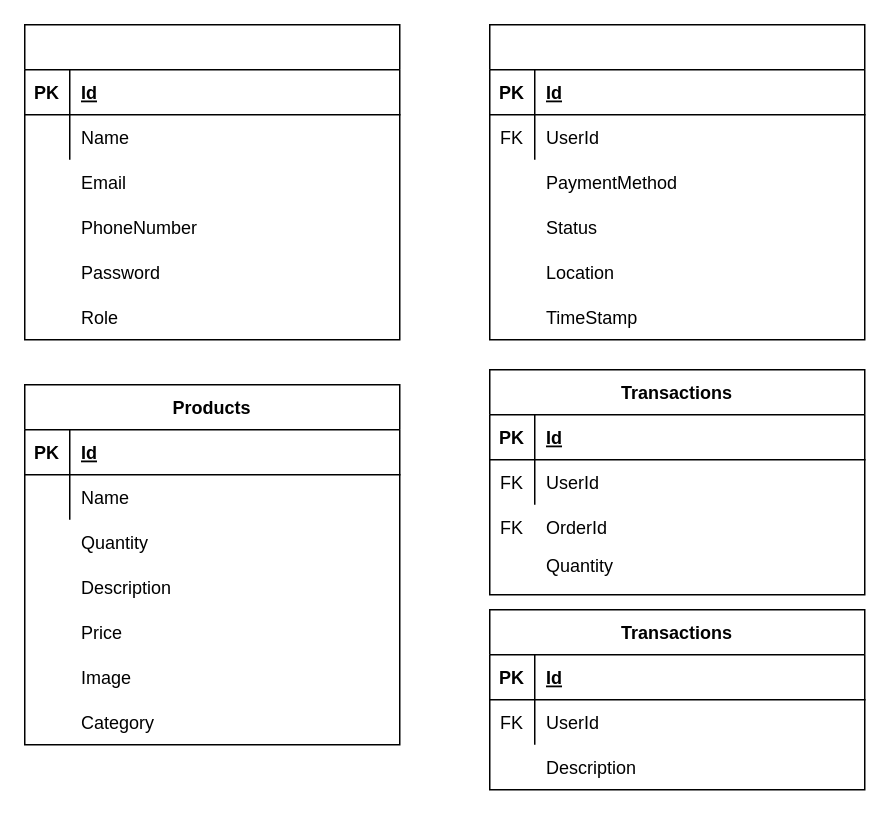
This 890x815 diagram has some shape labels left out. The shapes that lost their labels are listed below. From the top down, each one's box as (x1, y1, x2, y2) in pixels, then its label:
(23, 23, 400, 340): Users
(488, 23, 865, 340): Orders
